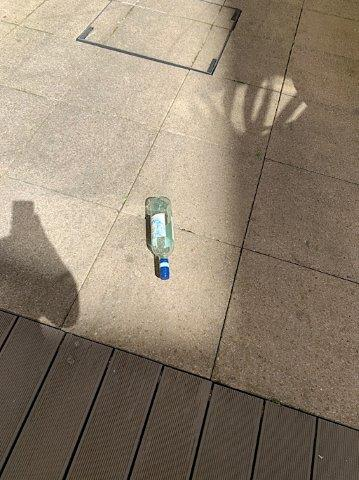botolkaca: (147, 197, 174, 281)
